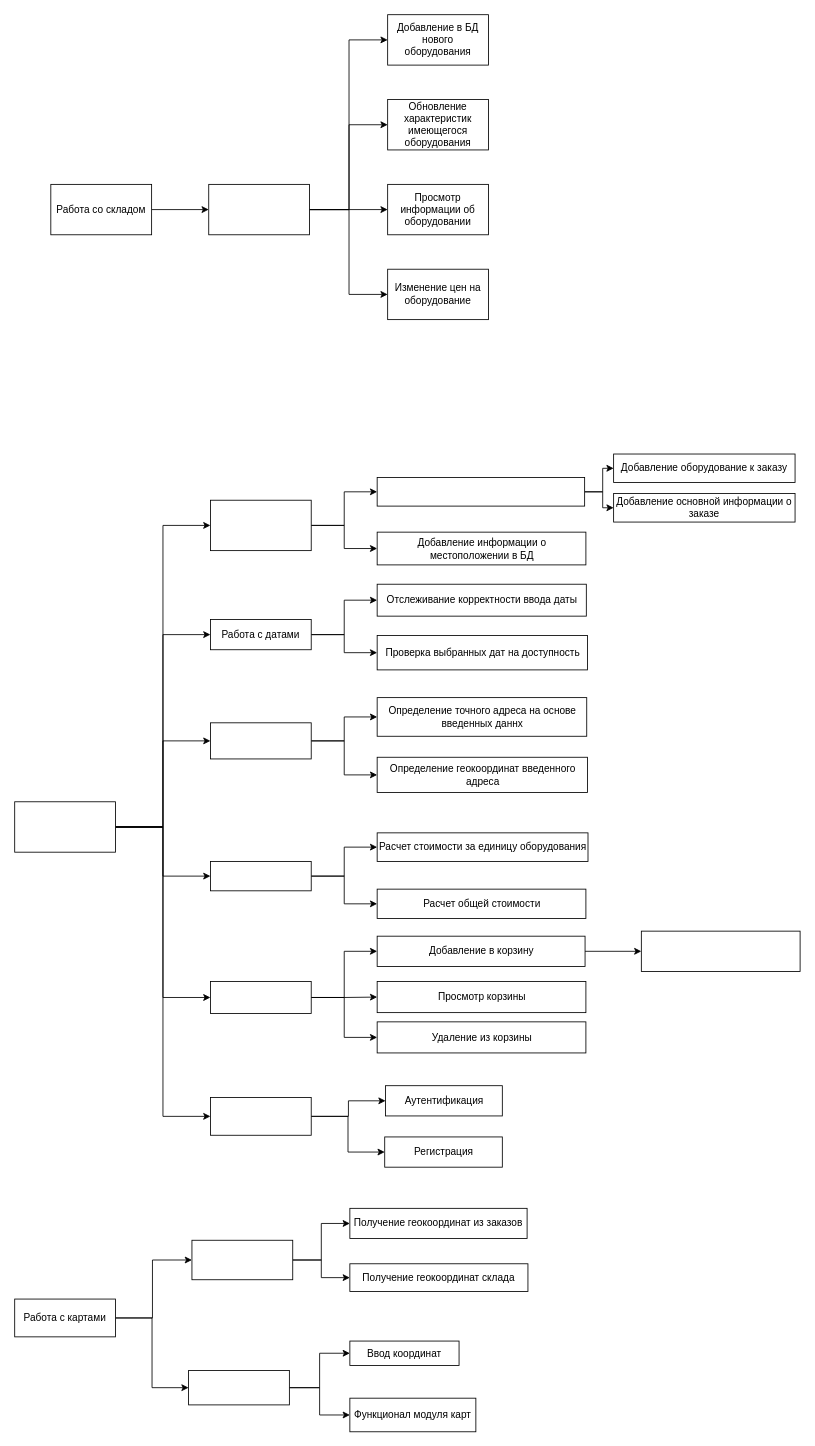
This 815x1446 diagram has some shape labels left out. Here are the shapes that lost their labels. From the top down, the centre of each, then its label:
At (259,209): "Ведение учета оборудования".
At (480,491): "Добавление данных о заказе в БД".
At (260,525): "Работа с заказом".
At (260,740): "Работа с местоположением".
At (65,826): "Обработка заказов на аренду".
At (260,876): "Работа с ценой".
At (720,950): "Проверка на колличество добавленного оборудования".
At (260,997): "Работа с корзиной".
At (260,1116): "Работа с пользователем".
At (242,1259): "Получение информации".
At (238,1387): "Вывод информации".
